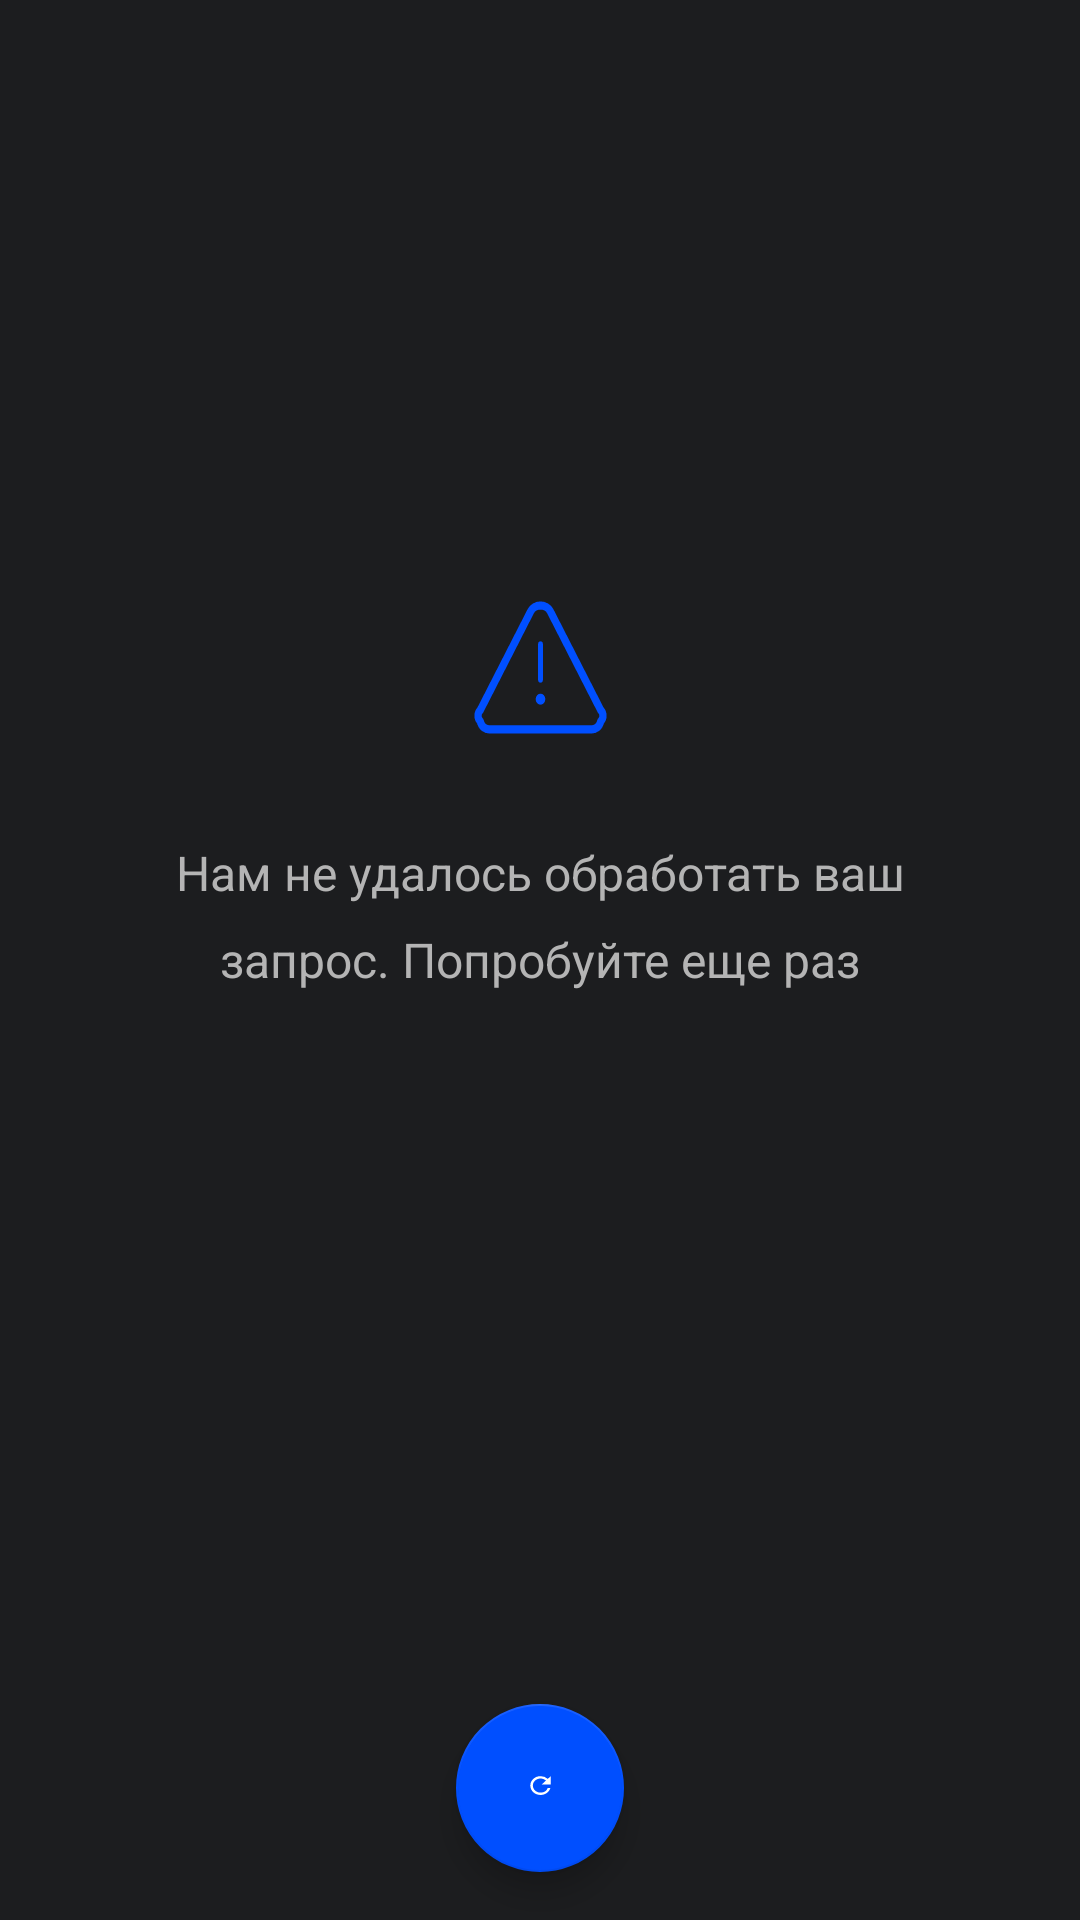

Icons on this 1080*1920 Android screen, each with the point to tap as (x=x, y=y):
alert triangle: (x=540, y=667)
fab: (x=540, y=1788)
